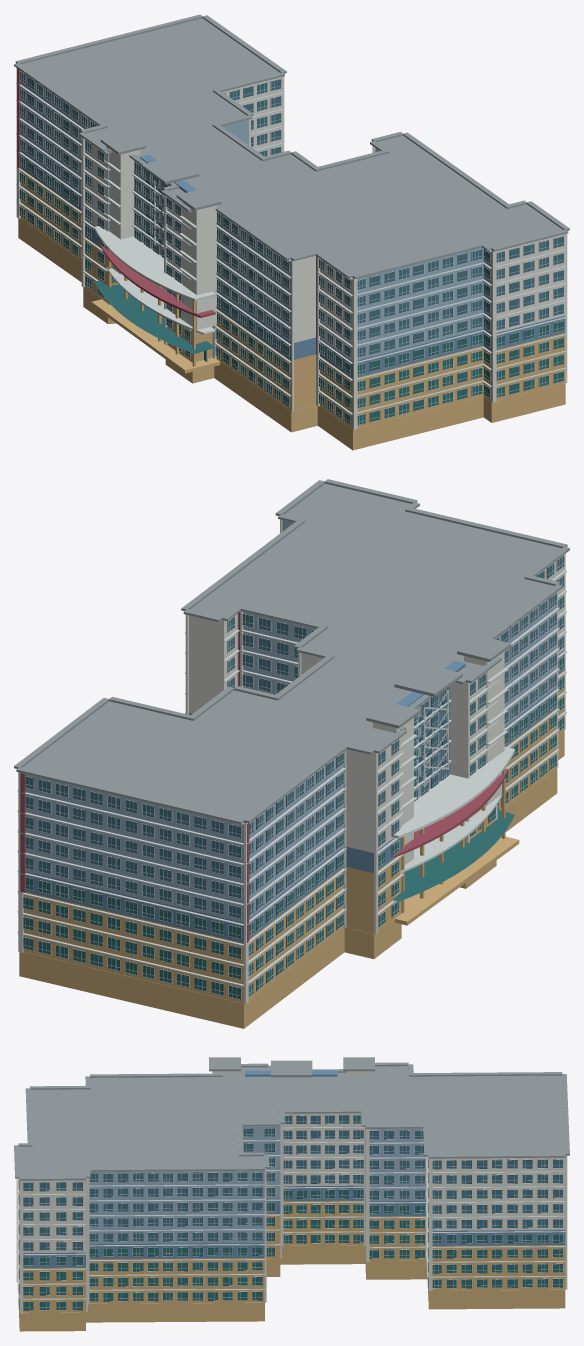
Rendered from mjiit_lod0.glb.
The picture shows the model from 3 angles, top to bottom: view 1: azimuth 30°, elevation 25°; view 2: azimuth 150°, elevation 25°; view 3: azimuth 270°, elevation 25°; orthographic projection. The views are drawn at different scales.
Parts seen in each view (by area): view 1: Roof, WarmBase, Mullion, PaintCream, GlassDusk, Sunshade, GlassGreen, PaintBlue, Recess, DarkBlue, RedAccent; view 2: Roof, WarmBase, Mullion, GlassDusk, PaintBlue, Sunshade, PaintCream, GlassGreen, DarkBlue, Recess, RedAccent; view 3: Roof, WarmBase, GlassDusk, PaintCream, Mullion, GlassGreen, PaintBlue, Sunshade, DarkBlue, Recess.
Boxes of the visible parts, box(x1,y1,x2,y2) form: Roof: box(14, 14, 569, 279); WarmBase: box(18, 168, 565, 450); Mullion: box(19, 71, 563, 425); PaintCream: box(16, 68, 567, 429); GlassDusk: box(20, 71, 563, 357); Sunshade: box(16, 83, 566, 414); GlassGreen: box(19, 156, 563, 424); PaintBlue: box(20, 74, 491, 360); Recess: box(20, 71, 563, 425); DarkBlue: box(20, 151, 565, 378); RedAccent: box(17, 68, 317, 354); Roof: box(14, 479, 569, 824); WarmBase: box(19, 670, 564, 1028); Mullion: box(23, 555, 564, 999); GlassDusk: box(25, 556, 563, 918); PaintBlue: box(25, 520, 556, 922); Sunshade: box(17, 570, 566, 986); PaintCream: box(18, 519, 565, 1003); GlassGreen: box(23, 657, 563, 999); DarkBlue: box(25, 650, 564, 942); Recess: box(24, 555, 563, 999); RedAccent: box(20, 612, 508, 942); Roof: box(14, 1057, 569, 1180); WarmBase: box(19, 1200, 565, 1331); GlassDusk: box(23, 1115, 562, 1250); PaintCream: box(16, 1071, 567, 1313); Mullion: box(18, 1115, 563, 1310); GlassGreen: box(23, 1190, 562, 1310); PaintBlue: box(89, 1126, 425, 1244); Sunshade: box(17, 1113, 567, 1299); DarkBlue: box(19, 1070, 565, 1267); Recess: box(19, 1115, 562, 1310).
Bounding box in the file's own units: 61.33 × 37.49 × 118.
